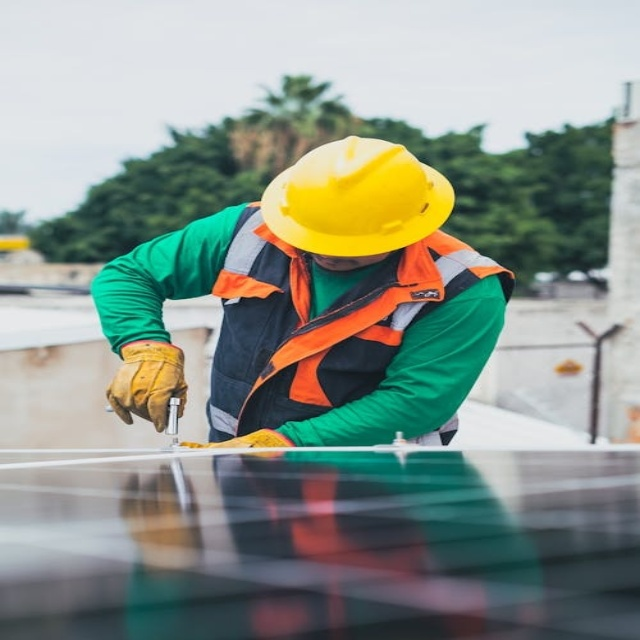Guantes: (108, 459, 224, 574), (97, 337, 192, 429), (177, 424, 307, 449)
Sin_mascara: (307, 251, 357, 273)
